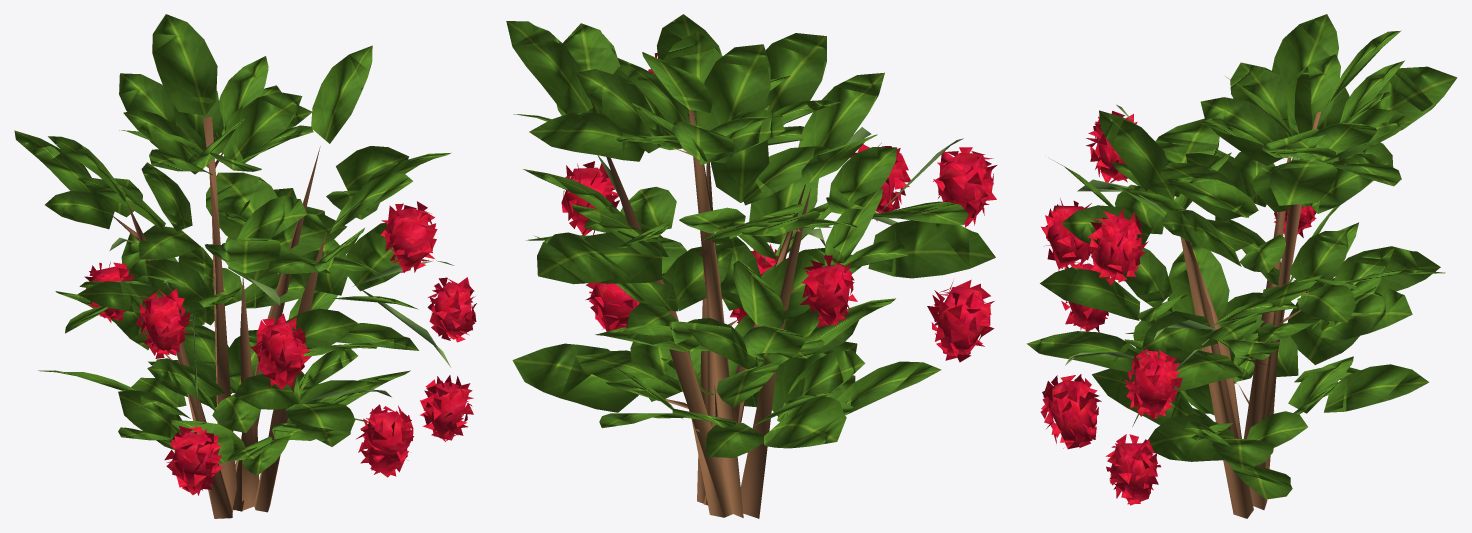
The model's file is NP_Raspberry_Ready_LOD1.fbx.
The picture shows the model from 3 angles, left to right: view 1: azimuth 30°, elevation 25°; view 2: azimuth 150°, elevation 25°; view 3: azimuth 270°, elevation 25°; orthographic projection. The views are drawn at different scales.
Parts seen in each view (by area): view 1: NP_Raspberry_Ready; view 2: NP_Raspberry_Ready; view 3: NP_Raspberry_Ready.
Part boxes in pixels (bbox=[...]): NP_Raspberry_Ready: bbox=[14, 14, 476, 518]; NP_Raspberry_Ready: bbox=[506, 14, 996, 518]; NP_Raspberry_Ready: bbox=[1026, 14, 1457, 518].
Size of the model in its own units: 78.42 by 85.75 by 70.81.
1 material, 1 textured.
